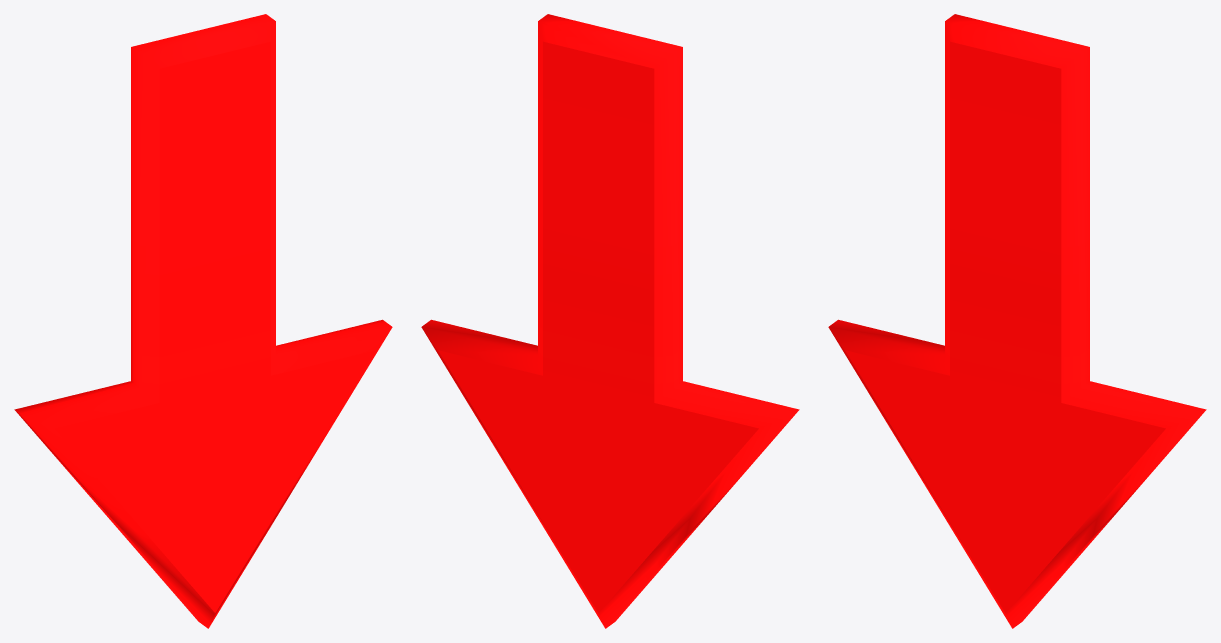
Rendered from cfa858d1-741f-4538-925c-9b72fcdd274f.glb.
3 renders of one model, left to right at view 1: azimuth 30°, elevation 25°; view 2: azimuth 150°, elevation 25°; view 3: azimuth 330°, elevation 25°, orthographic.
Visible parts, largest first — view 1: IndicatorArrowDownRed; view 2: IndicatorArrowDownRed; view 3: IndicatorArrowDownRed.
Part boxes in pixels (x1=…): IndicatorArrowDownRed: x1=14, y1=14, x2=392, y2=628; IndicatorArrowDownRed: x1=421, y1=14, x2=799, y2=628; IndicatorArrowDownRed: x1=828, y1=14, x2=1206, y2=628.
Bounding box in the file's own units: 0.45 × 0.69 × 0.05.
Materials: 1 (1 with a texture image).
